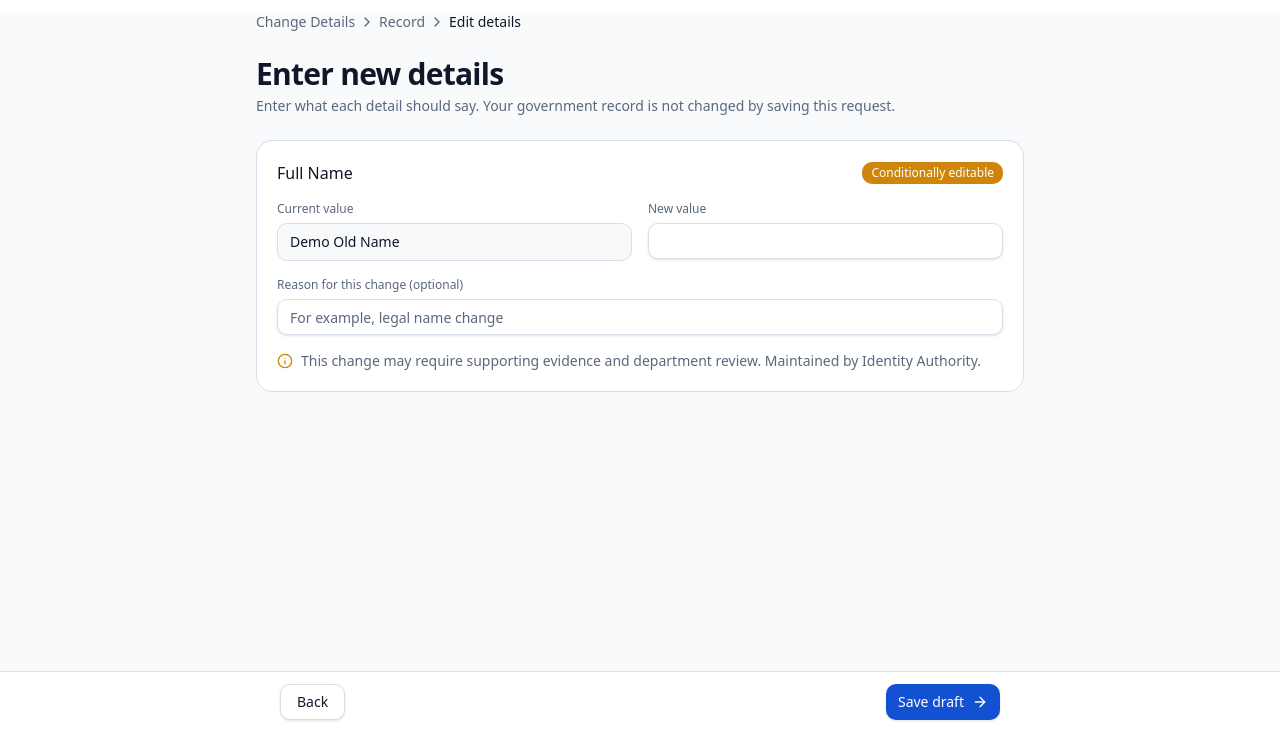
the correction form › reports a failed save without losing what the citizen typed
The width and height of the screenshot is (1280, 732).
In the field labelled "New value": point(826, 241) [648, 223, 1003, 259], type "Demo New Name"
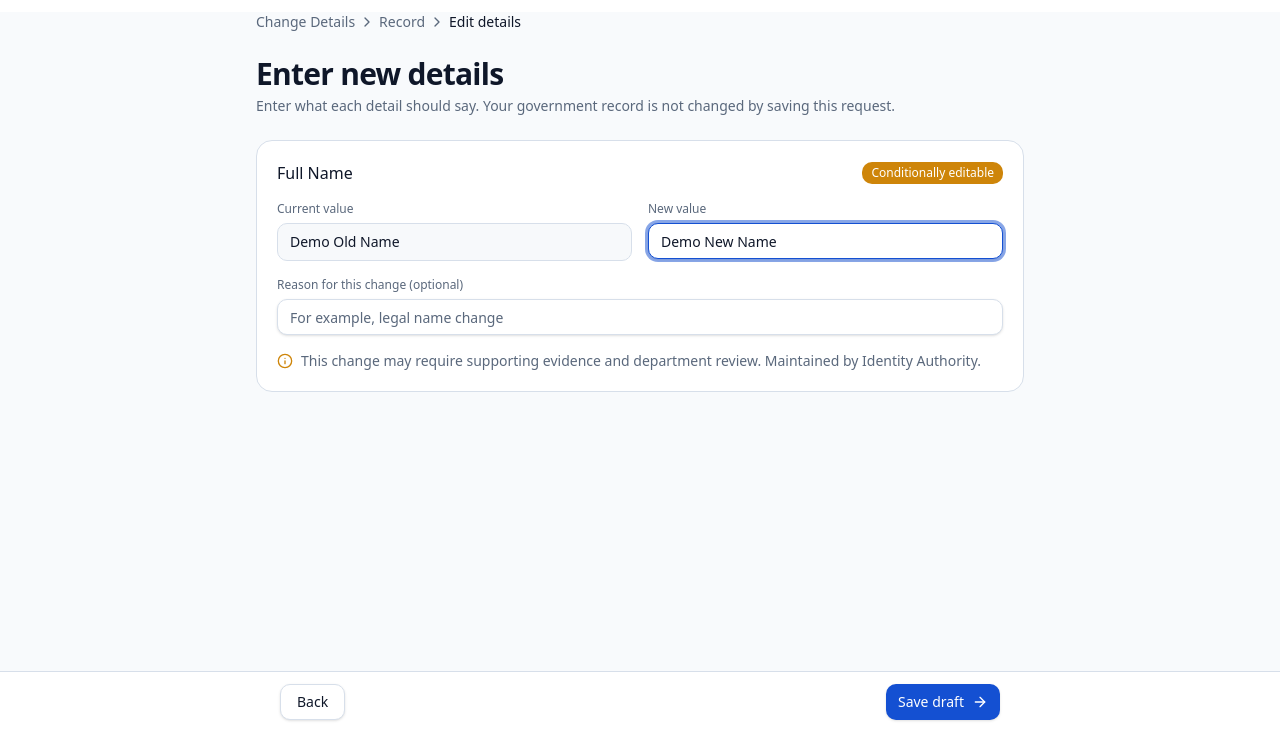
Click the button "Save draft": point(943, 702) [886, 684, 1000, 720]
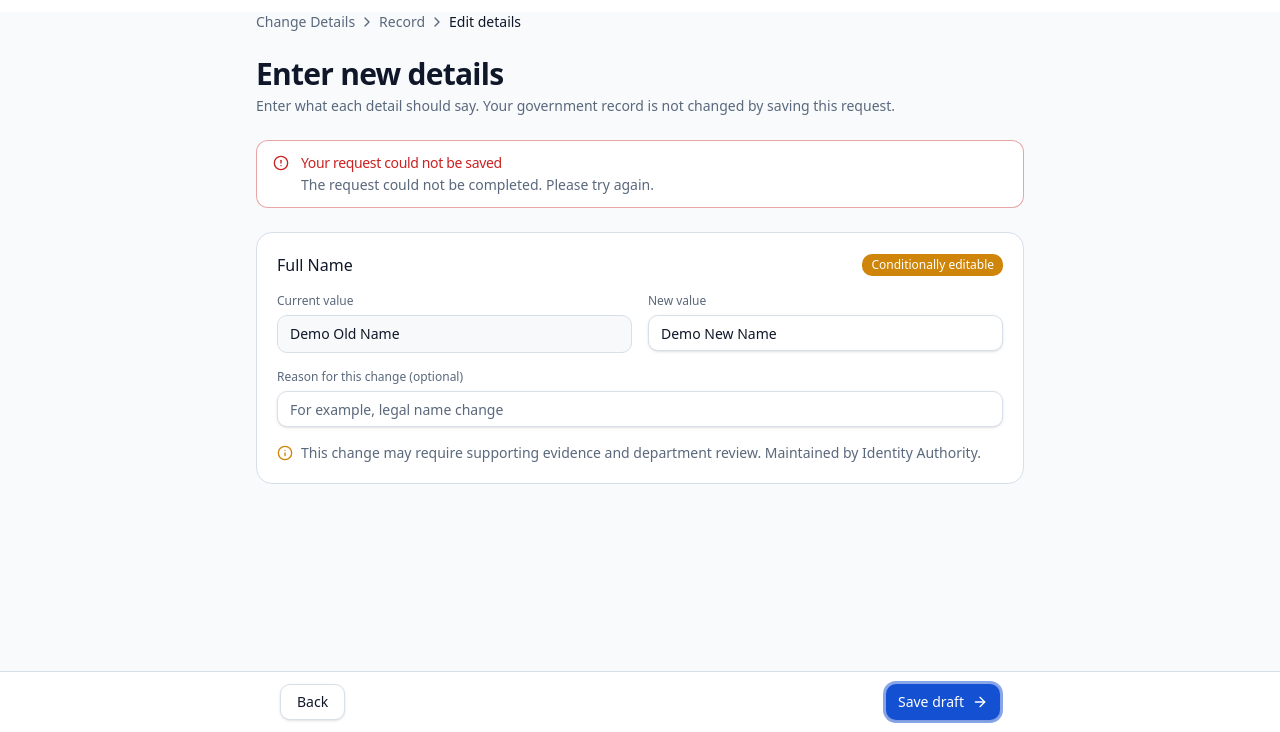
Result: the text "Your request could not be saved" is shown at [301, 153, 502, 172]
